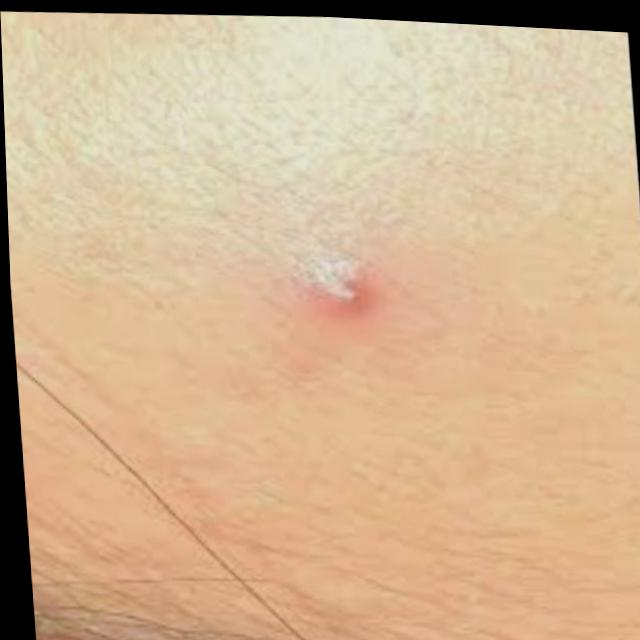pustule: (280, 219, 403, 349)
